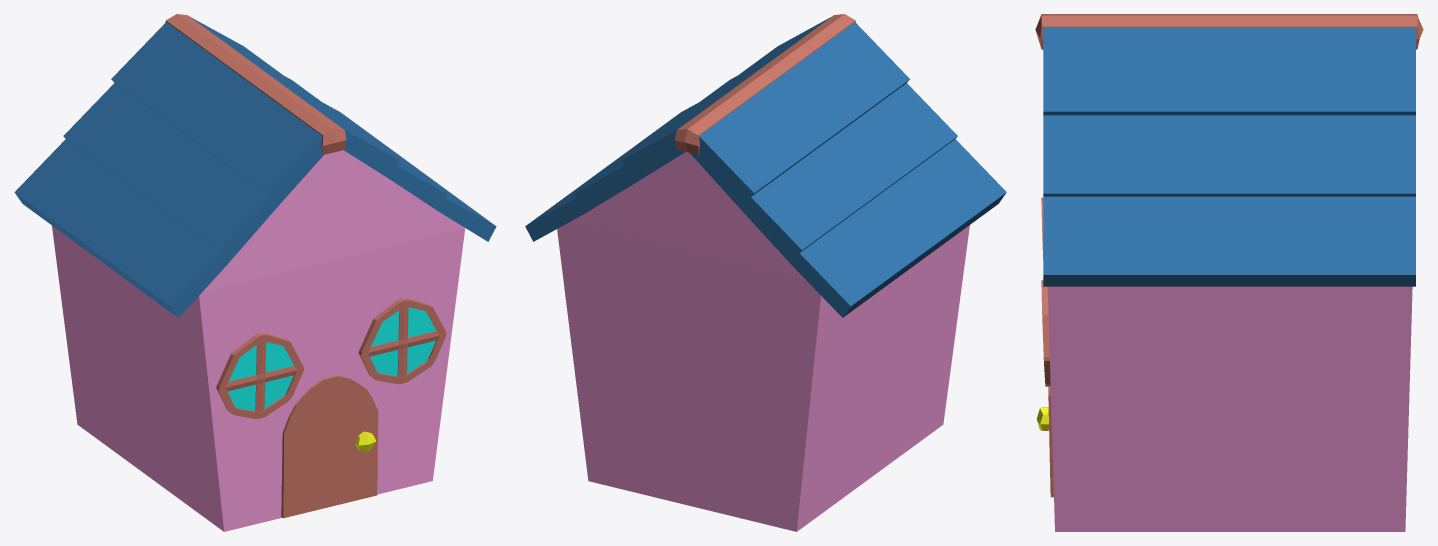
The model's file is MeanieBoBeanieHouse.fbx.
3 renders of one model, left to right at view 1: azimuth 30°, elevation 25°; view 2: azimuth 150°, elevation 25°; view 3: azimuth 270°, elevation 25°, orthographic. The views are drawn at different scales.
Visible parts, largest first — view 1: Cube.001, Cube.003, Cube.002, Cube.009, Cube.005, Cube.008, Cube.004, Cube.007; view 2: Cube.001, Cube.003, Cube.009; view 3: Cube.009, Cube.001, Cube.008.
Part boxes in pixels (<box>): Cube.001: <box>52,14,465,531</box>; Cube.003: <box>14,22,323,317</box>; Cube.002: <box>281,375,378,518</box>; Cube.009: <box>190,17,496,241</box>; Cube.005: <box>216,332,303,418</box>; Cube.008: <box>358,298,446,384</box>; Cube.004: <box>227,342,293,410</box>; Cube.007: <box>370,307,436,376</box>; Cube.001: <box>557,14,969,531</box>; Cube.003: <box>690,22,1006,317</box>; Cube.009: <box>525,17,830,241</box>; Cube.009: <box>1043,27,1415,286</box>; Cube.001: <box>1035,14,1423,531</box>; Cube.008: <box>1041,280,1050,386</box>.
Bounding box in the file's own units: 801 × 895 × 691.
